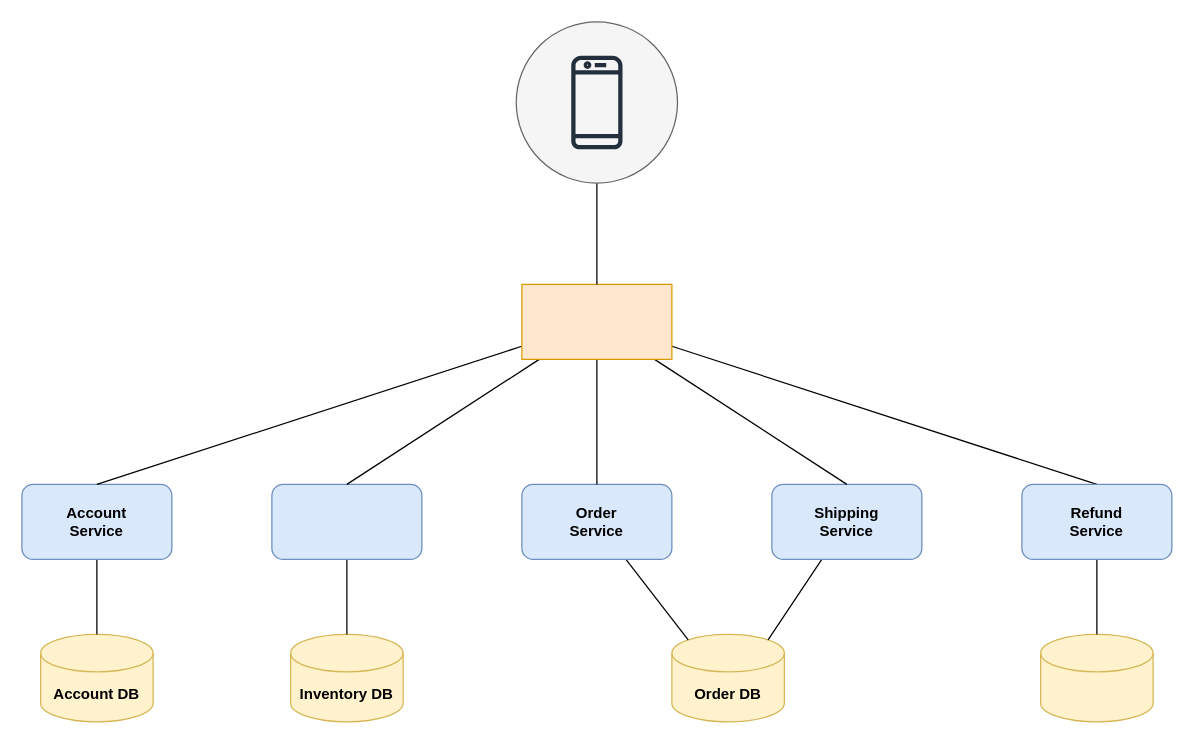
The diagram is 1194 pixels wide and 744 high, and some of its shapes have lost their labels. Here are the shapes that lost their labels. From the top down, the centre of each, then its label:
the point at 596,321: API Gateway
the point at 346,521: Inventory Service
the point at 1096,677: Refund DB
